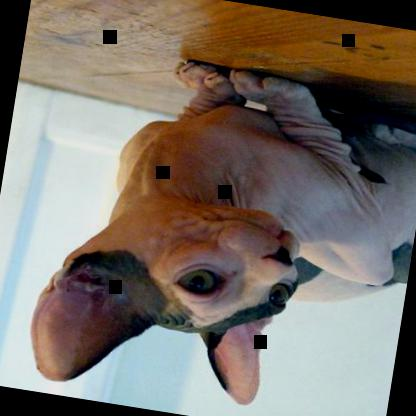cat: (22, 40, 415, 415)
